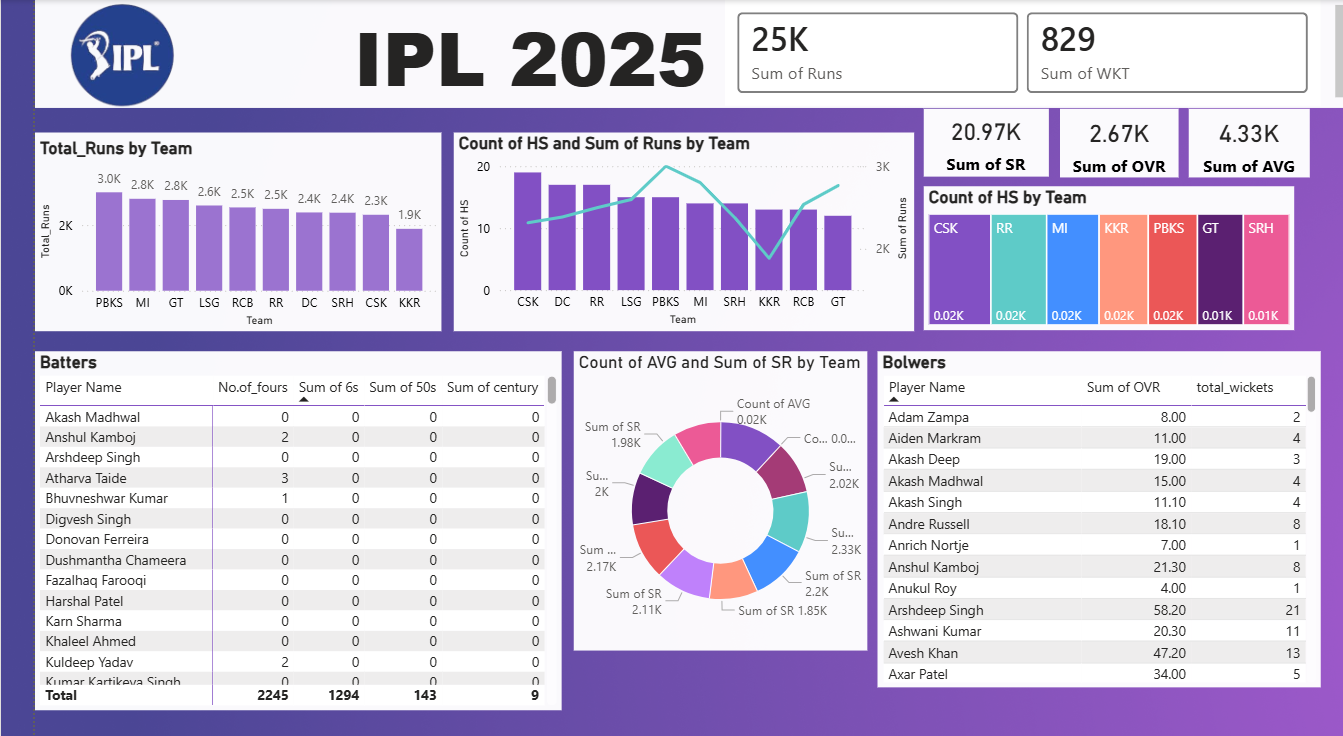

The dashboard page shown, as its layout file describes it:
{"tool":"powerbi","page":{"name":"Page 4","canvas":[1280,720],"ordinal":3},"visuals":[{"type":"columnChart","fields":{"Category":["IPL2025Batters.Team"],"Y":["IPL2025Batters.Total_Runs"]},"box":[0,129.1,397.7,194.2],"z":0},{"type":"textbox","box":[0,0,1280.2,105.8],"z":1000},{"type":"image","box":[11.6,1.2,146.5,105.8],"z":2000},{"type":"lineStackedColumnComboChart","fields":{"Category":["IPL2025Batters.Team"],"Y2":["IPL2025Batters.Runs"],"Y":["IPL2025Batters.HS"]},"box":[409.3,129.1,450,194.2],"z":3000},{"type":"treemap","fields":{"Values":["IPL2025Batters.HS"],"Group":["IPL2025Batters.Team"]},"box":[869.8,182.6,362.8,140.7],"z":4000},{"type":"pivotTable","title":"Batters","fields":{"Rows":["IPL2025Batters.Player Name"],"Values":["IPL2025Batters.No.of_fours","IPL2025Batters.6s","IPL2025Batters.50s","IPL2025Batters.century"]},"box":[0,344.2,515.1,351.2],"z":5000},{"type":"tableEx","title":"Bolwers","fields":{"Values":["IPL2025Bowlers.Player Name","IPL2025Bowlers.OVR","IPL2025Bowlers.total_wickets"]},"box":[824.4,344.2,433.7,329.1],"z":6000},{"type":"donutChart","fields":{"Y":["IPL2025Batters.AVG","IPL2025Batters.SR"],"Category":["IPL2025Batters.Team"]},"box":[526.7,344.2,287.2,293],"z":7000},{"type":"card","fields":{"Values":["IPL2025Batters.SR"]},"box":[869.8,107,122.1,66.3],"z":7001},{"type":"card","fields":{"Values":["IPL2025Bowlers.OVR"]},"box":[1002.3,107,116.3,67.4],"z":7002},{"type":"card","fields":{"Values":["IPL2025Bowlers.AVG"]},"box":[1129.1,107,118.6,67.4],"z":7003},{"type":"cardVisual","fields":{"Data":["IPL2025Batters.Runs","IPL2025Bowlers.WKT"]},"box":[675.6,0,582.6,103.5],"z":7004}]}

Visuals, with their boxes in screenshot pixels (x1, y1, x2, y2), scaled from the page's 1280x720 canvas onto the 1343x736 screenshot:
columnChart - IPL2025Batters.Team x IPL2025Batters.Total_Runs: box(0, 132, 417, 330)
textbox: box(0, 0, 1342, 108)
image: box(12, 1, 166, 109)
lineStackedColumnComboChart - IPL2025Batters.Team x IPL2025Batters.Runs: box(429, 132, 902, 330)
treemap - IPL2025Batters.HS x IPL2025Batters.Team: box(913, 187, 1293, 330)
"Batters" pivotTable: box(0, 352, 540, 711)
"Bolwers" tableEx: box(865, 352, 1320, 688)
donutChart - IPL2025Batters.AVG x IPL2025Batters.SR: box(553, 352, 854, 651)
card - IPL2025Batters.SR: box(913, 109, 1041, 177)
card - IPL2025Bowlers.OVR: box(1052, 109, 1174, 178)
card - IPL2025Bowlers.AVG: box(1185, 109, 1309, 178)
cardVisual - IPL2025Batters.Runs x IPL2025Bowlers.WKT: box(709, 0, 1320, 106)
